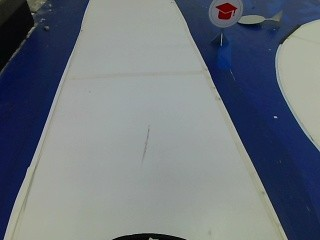school: (206, 0, 242, 29)
